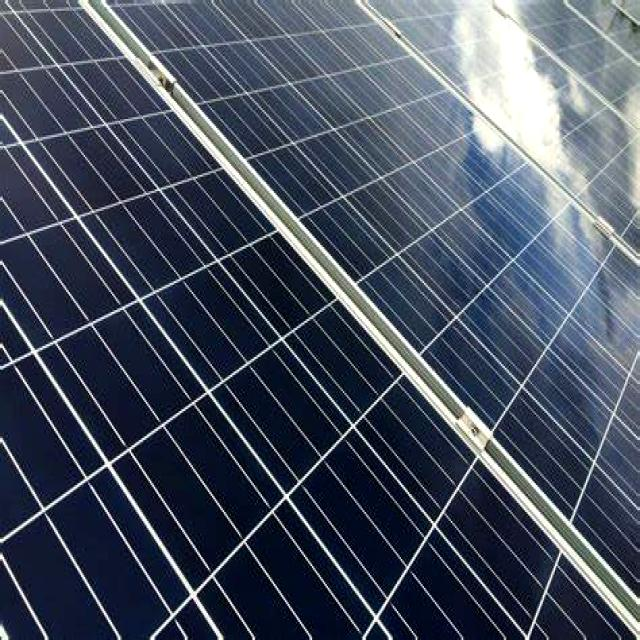crack: (0, 4, 640, 640), (96, 0, 640, 522)
